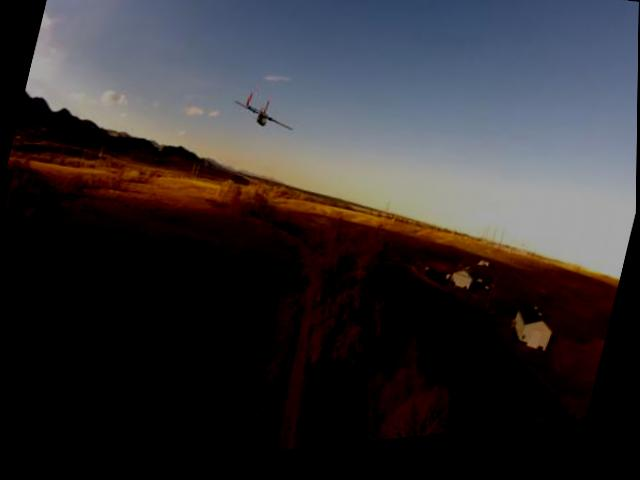uav: (228, 89, 303, 145)
